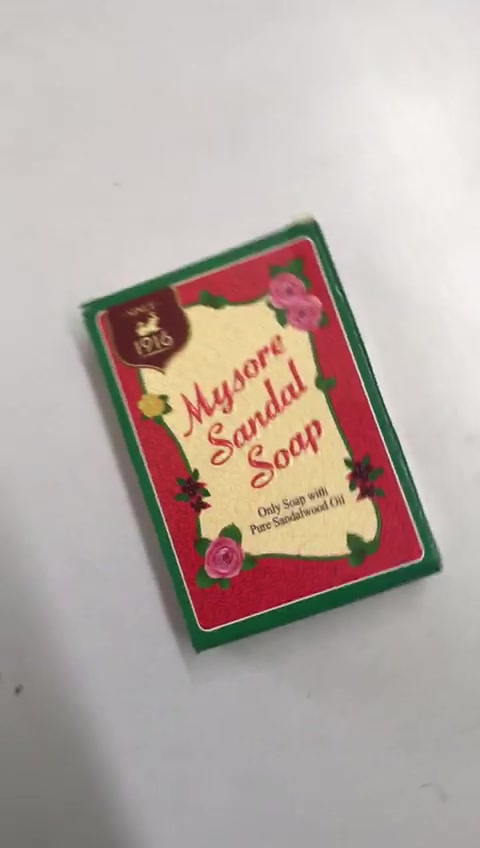mysoresandalsoap: (71, 217, 442, 654)
